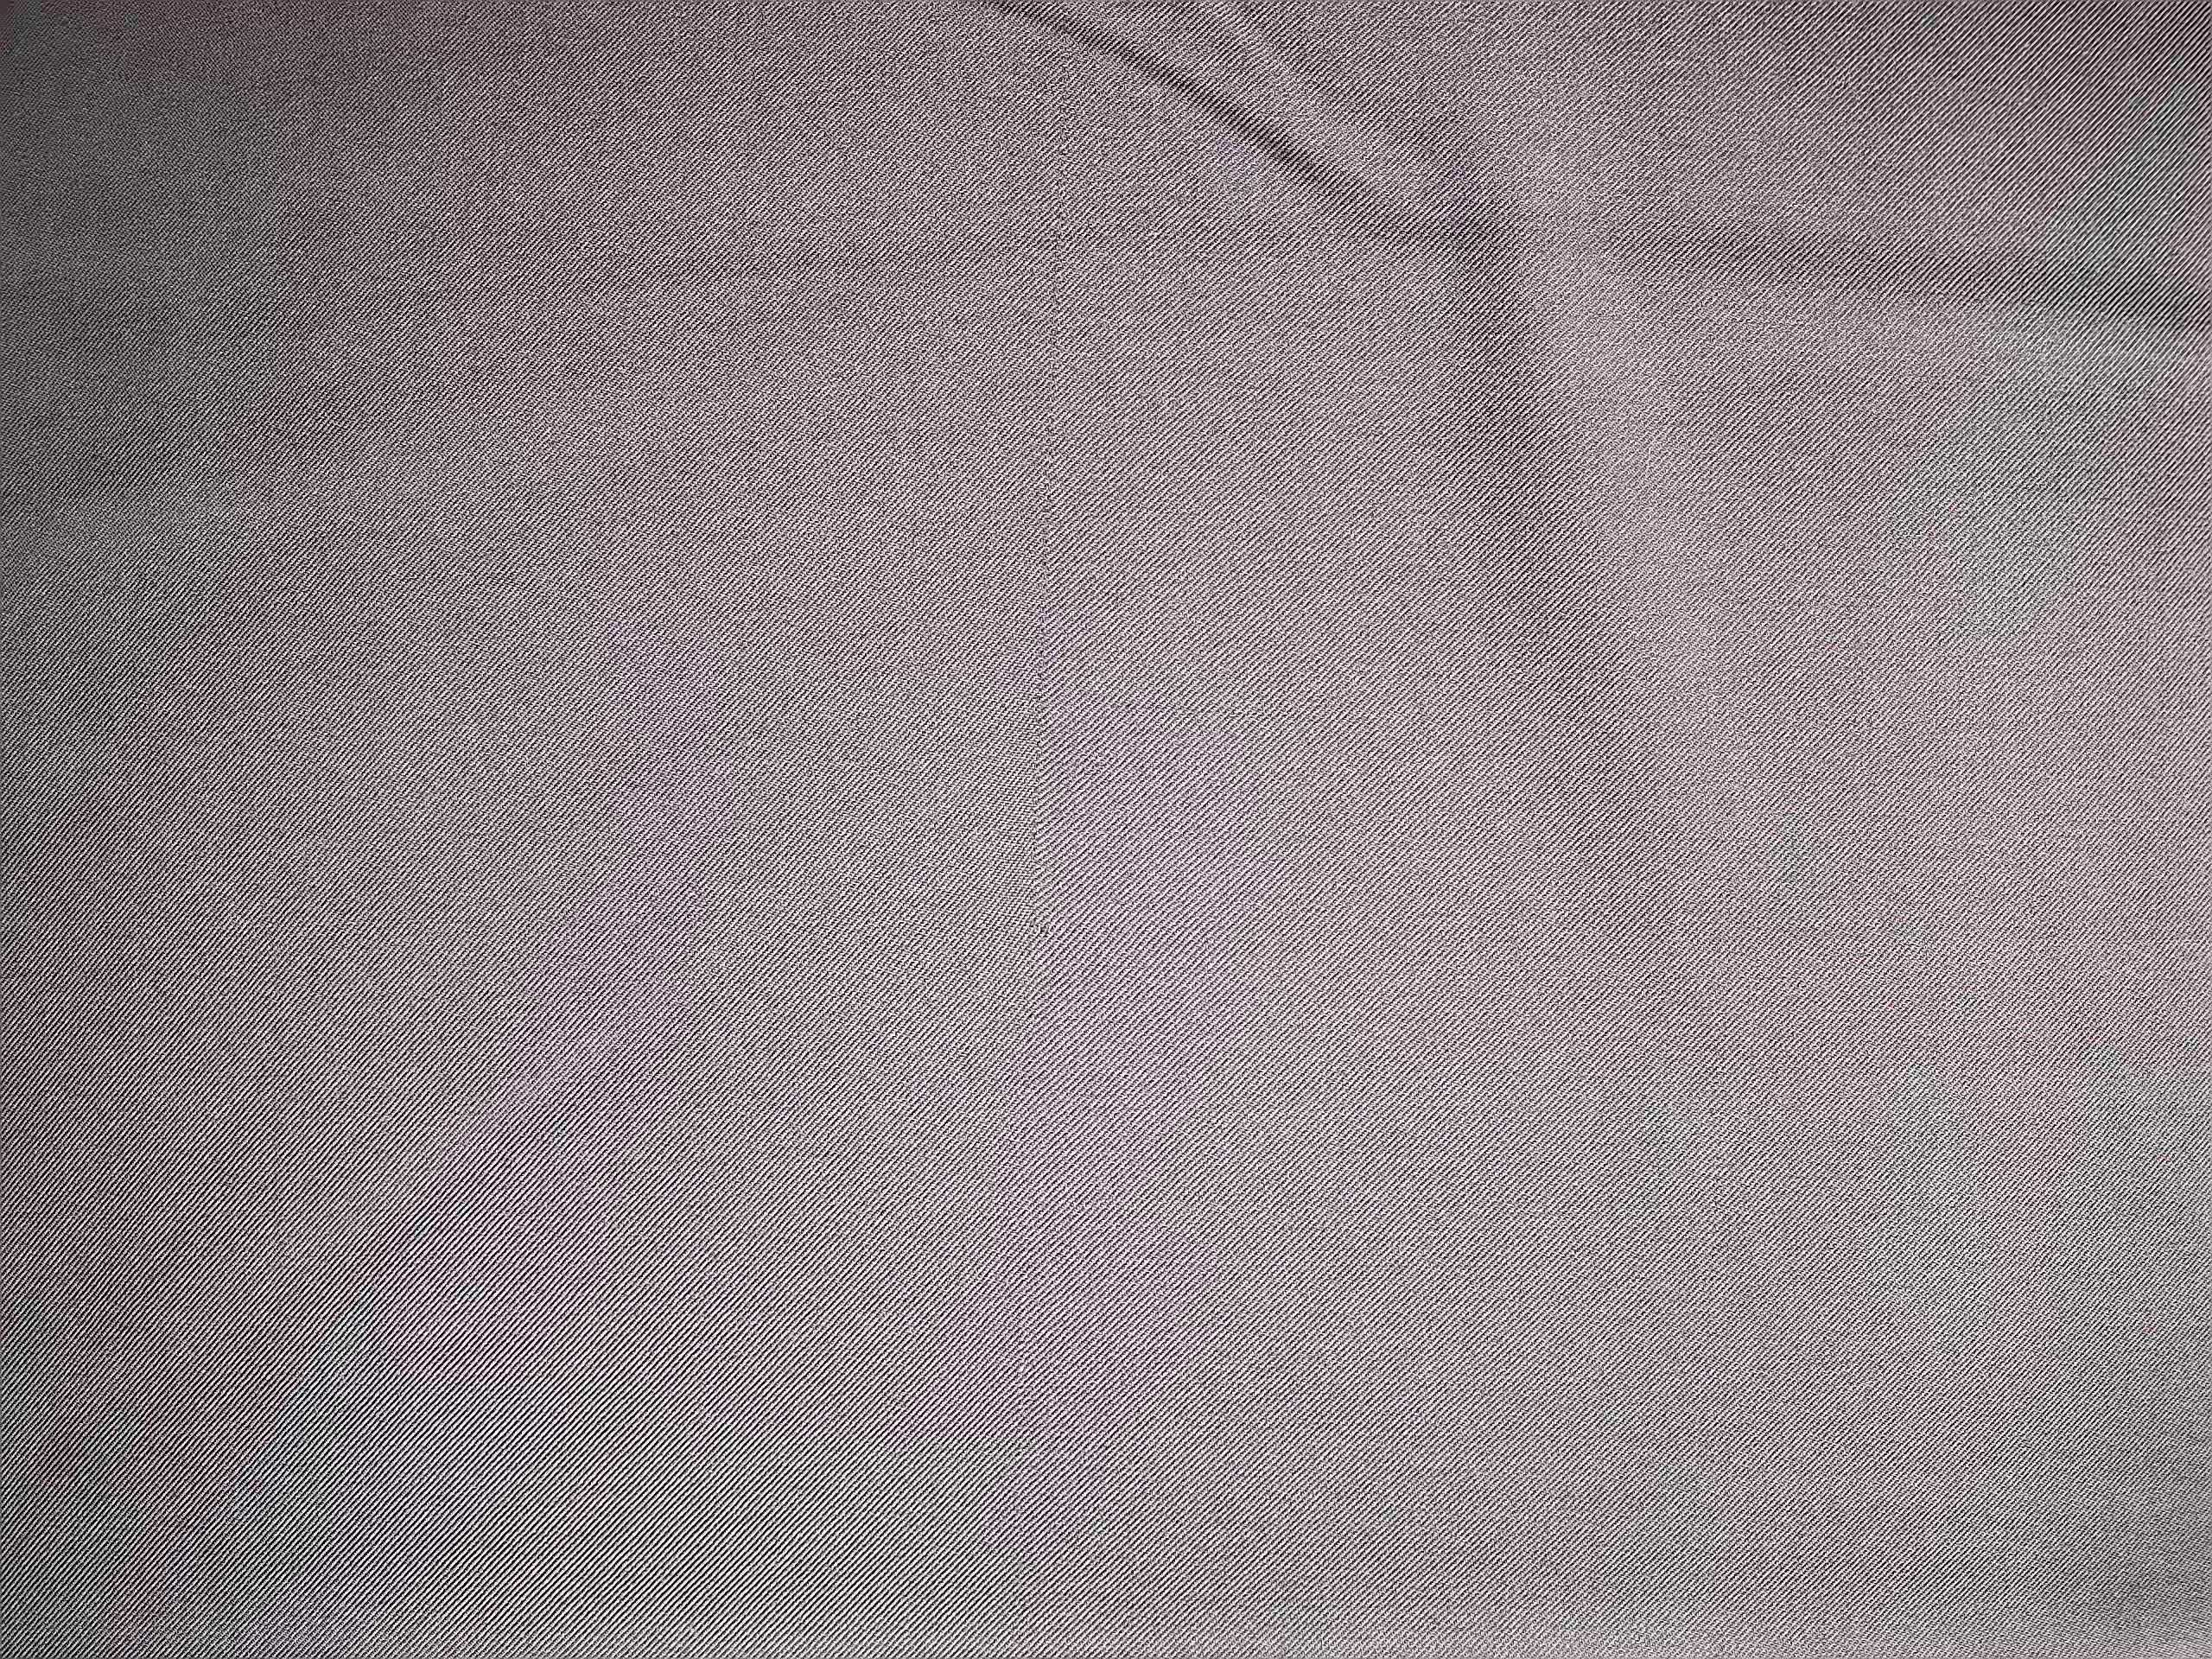hanging-warp: (1010, 54, 1087, 1420)
